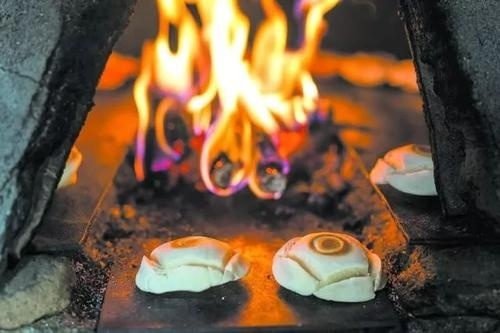fire: (127, 0, 334, 183)
